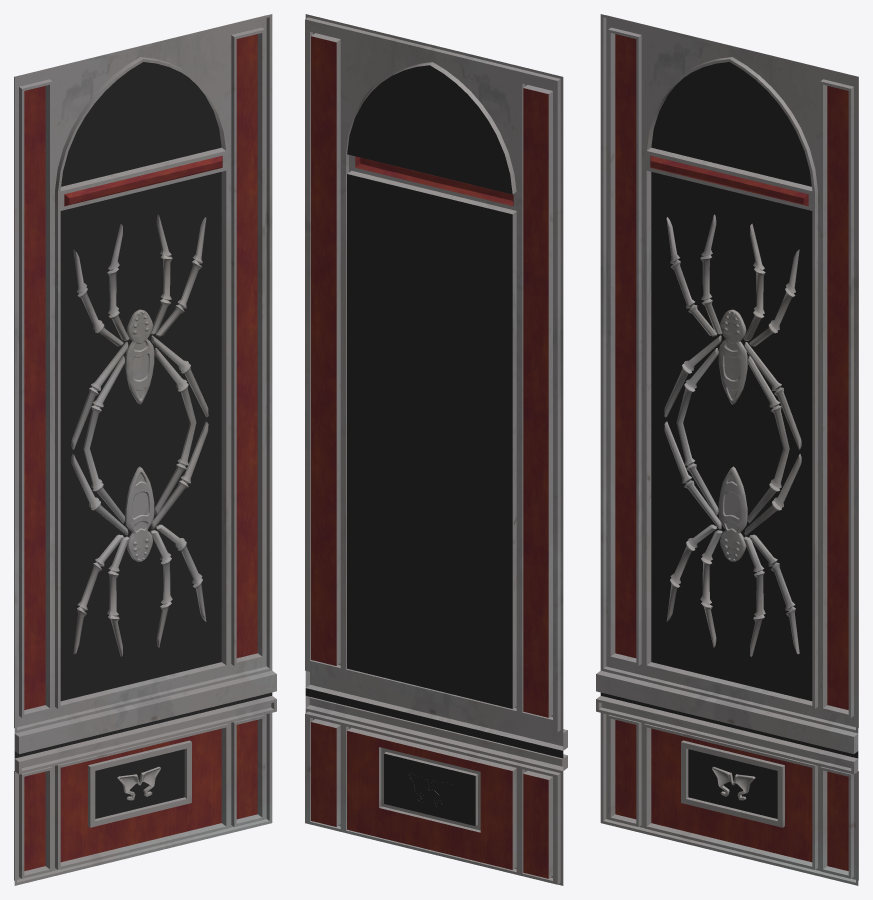
The model's file is SM_Blockout_Wall_01.fbx.
3 views of the same model, side by side, from view 1: azimuth 30°, elevation 25°; view 2: azimuth 150°, elevation 25°; view 3: azimuth 330°, elevation 25° (orthographic).
Parts seen in each view (by area): view 1: Wall_1; view 2: Wall_1; view 3: Wall_1.
Boxes of the visible parts, left/top/right/bottom form: Wall_1: left=14, top=14, right=276, bottom=885; Wall_1: left=305, top=14, right=567, bottom=885; Wall_1: left=596, top=14, right=858, bottom=885.
Size of the model in its own units: 200 by 600 by 12.31.
